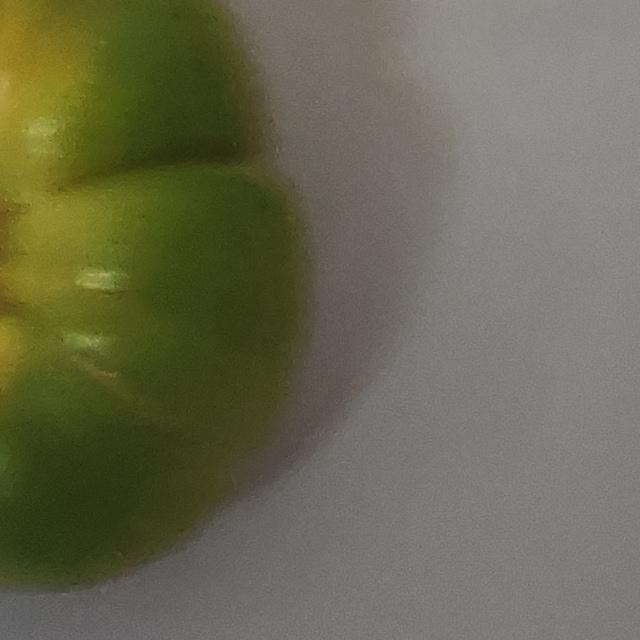tomato: (0, 0, 498, 640)
